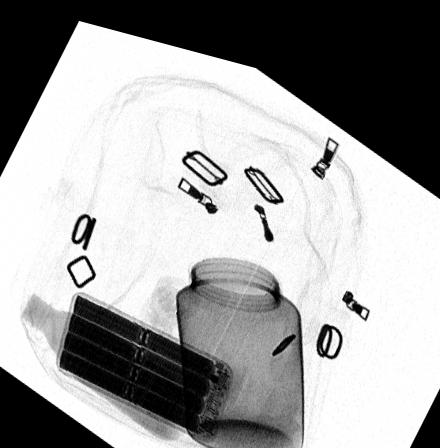Powerbank: (56, 286, 235, 434)
